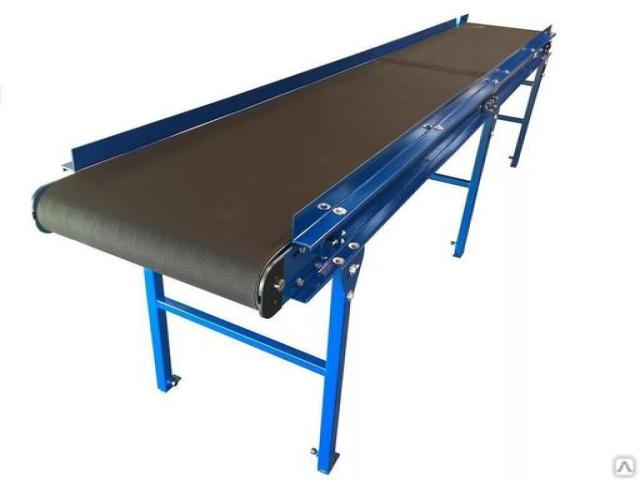conveyor: (28, 11, 564, 472)
